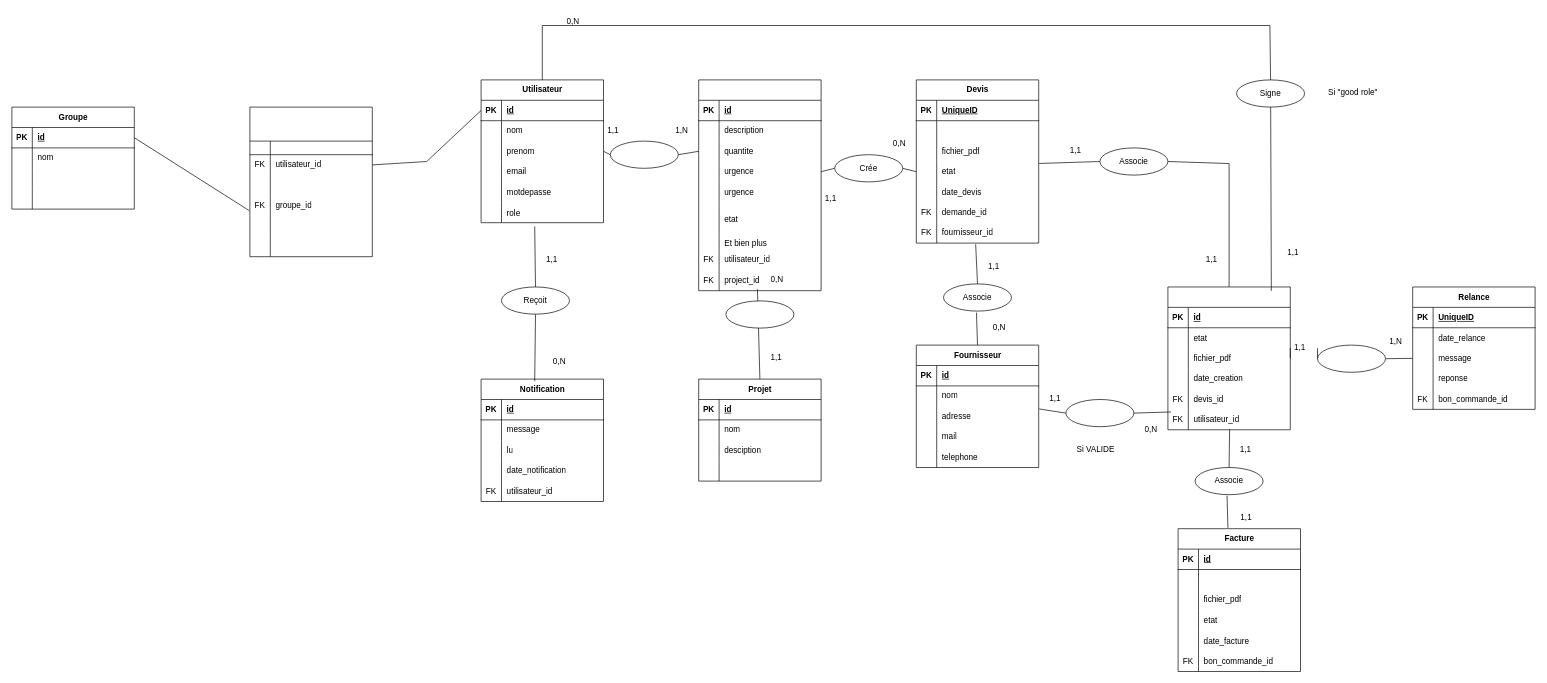
This 1547x683 diagram has some shape labels left out. Each missing label, with the box of its shape:
Appartient: (725, 300, 794, 328)
BonCommande: (1167, 286, 1290, 430)
Demande: (698, 79, 821, 291)
edite: (1065, 399, 1134, 427)
possibilite: (1317, 344, 1386, 372)
Realise: (610, 140, 678, 168)
UtilisateurGroupe: (249, 106, 372, 257)
